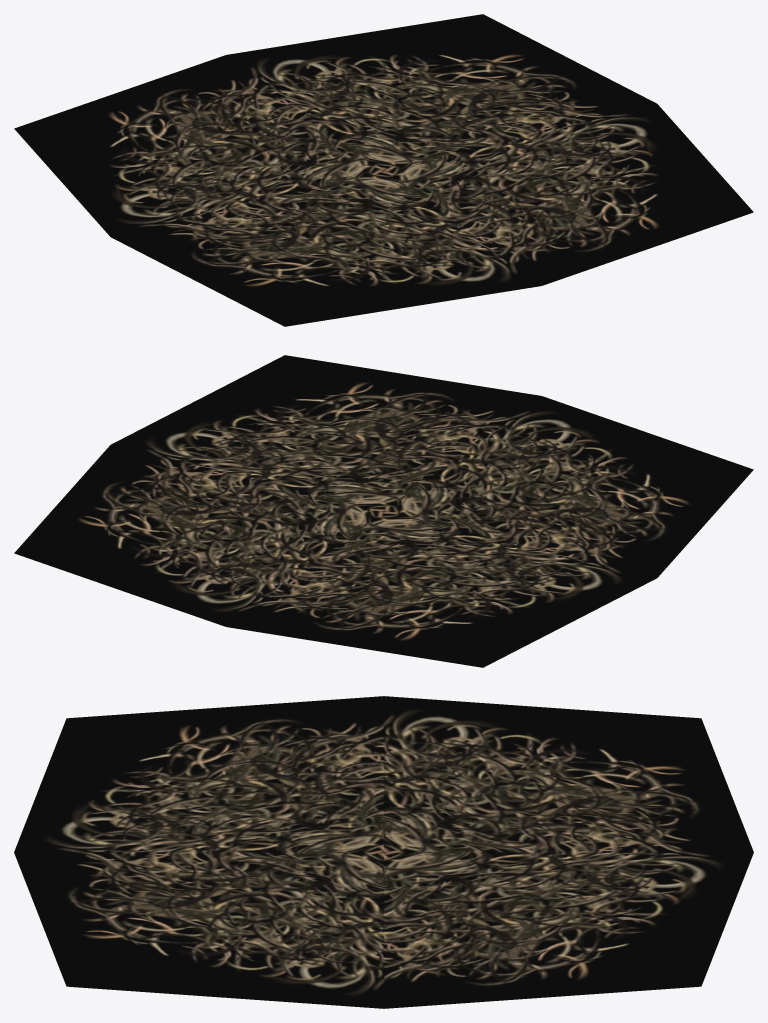
The model's file is shop_barber_hairClippings.fbx.
3 renders of one model, top to bottom at view 1: azimuth 30°, elevation 25°; view 2: azimuth 150°, elevation 25°; view 3: azimuth 270°, elevation 25°, orthographic. The views are drawn at different scales.
Visible parts, largest first — view 1: hairClippings; view 2: hairClippings; view 3: hairClippings.
Boxes of the visible parts, x1,y1,x2,y2 form: hairClippings: (14, 14, 753, 326); hairClippings: (14, 355, 753, 667); hairClippings: (14, 696, 753, 1008).
Size of the model in its own units: 264 by 4.31e-05 by 264.
1 material, 1 textured.
